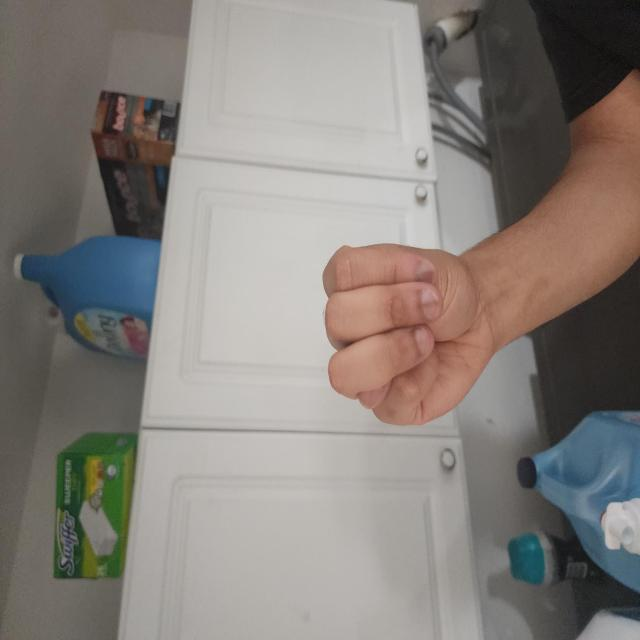M: (157, 424, 300, 640)
